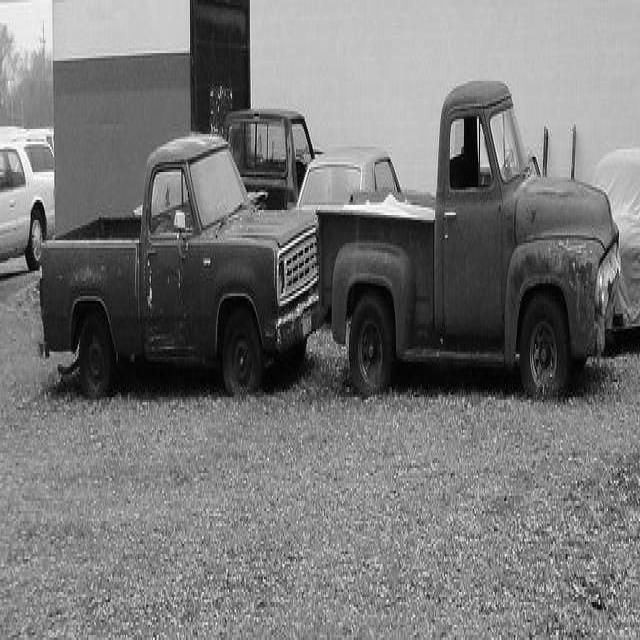vehicle: (318, 86, 622, 407), (39, 132, 329, 401), (223, 109, 325, 211), (294, 142, 432, 209), (1, 142, 56, 270)
